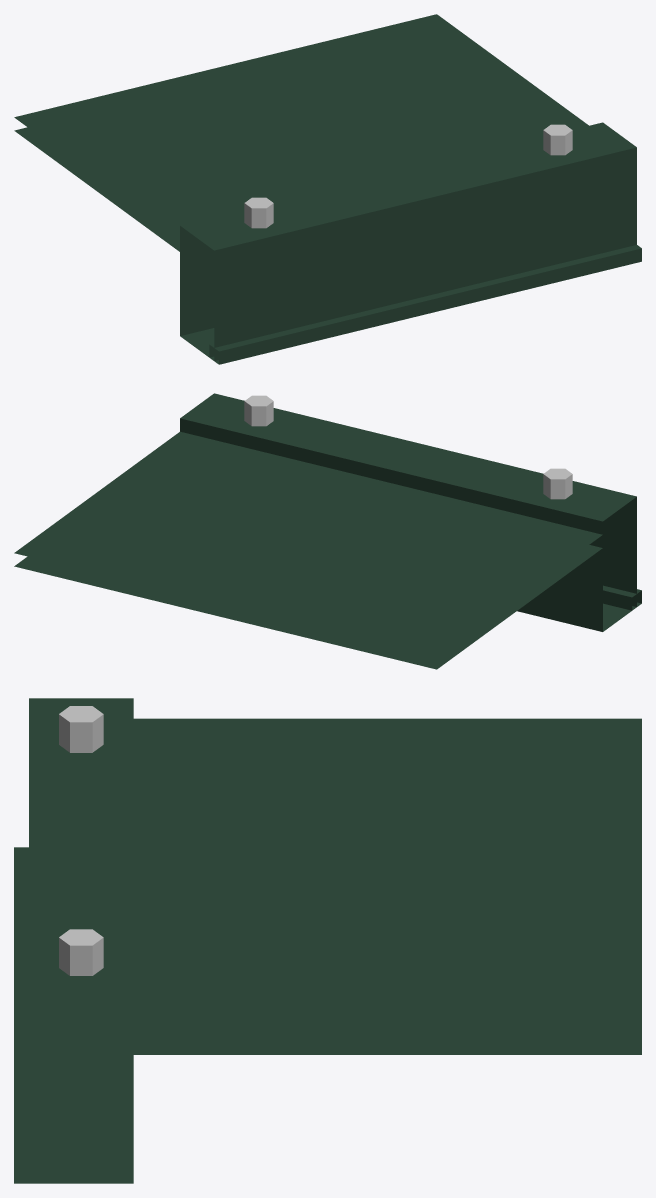
Rendered from cell_31.obj.
The picture shows the model from 3 angles, top to bottom: view 1: azimuth 30°, elevation 25°; view 2: azimuth 150°, elevation 25°; view 3: azimuth 270°, elevation 25°; orthographic projection. The views are drawn at different scales.
Size of the model in its own units: 1 by 0.295 by 0.84.
